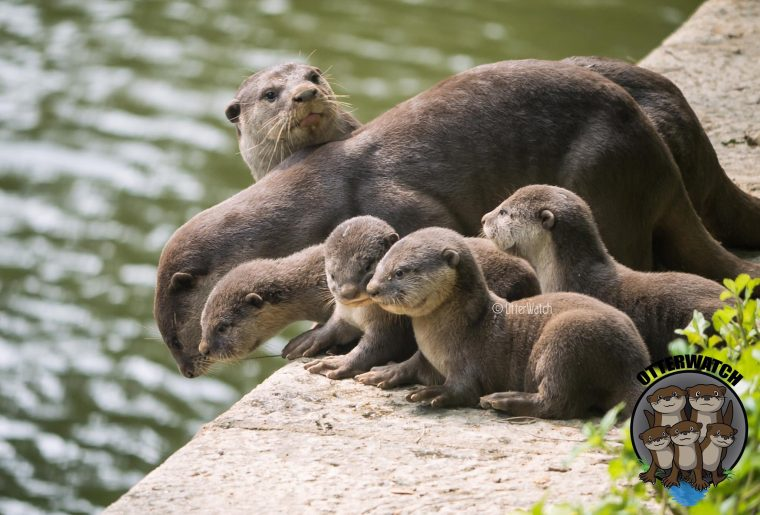otter: (362, 219, 671, 434)
